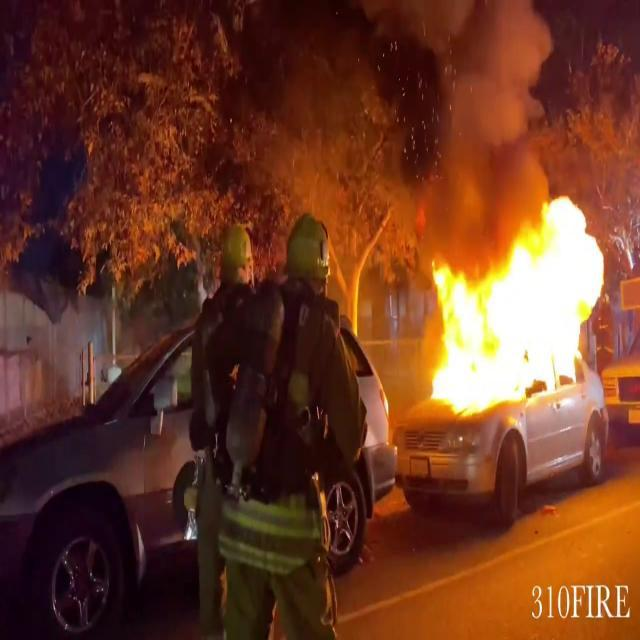Fire: (417, 189, 616, 415)
Smoke: (398, 0, 552, 217)
